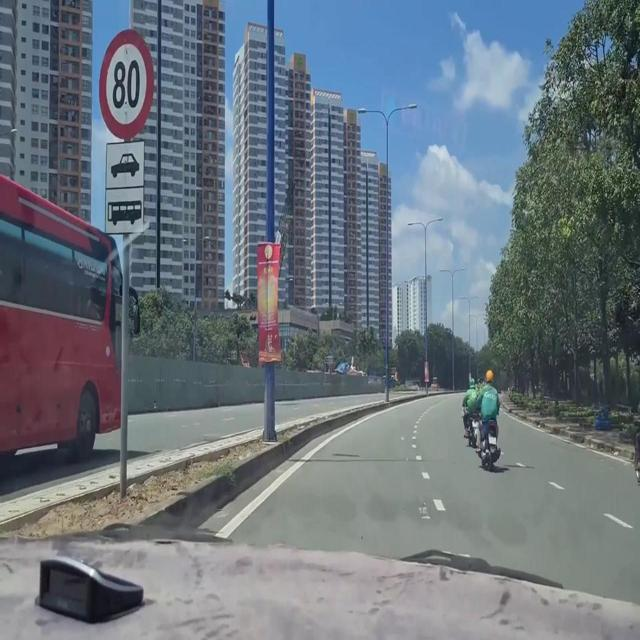Biển phụ: (101, 134, 156, 250)
Giới hạn tốc độ 80Km/h: (92, 24, 160, 137)
